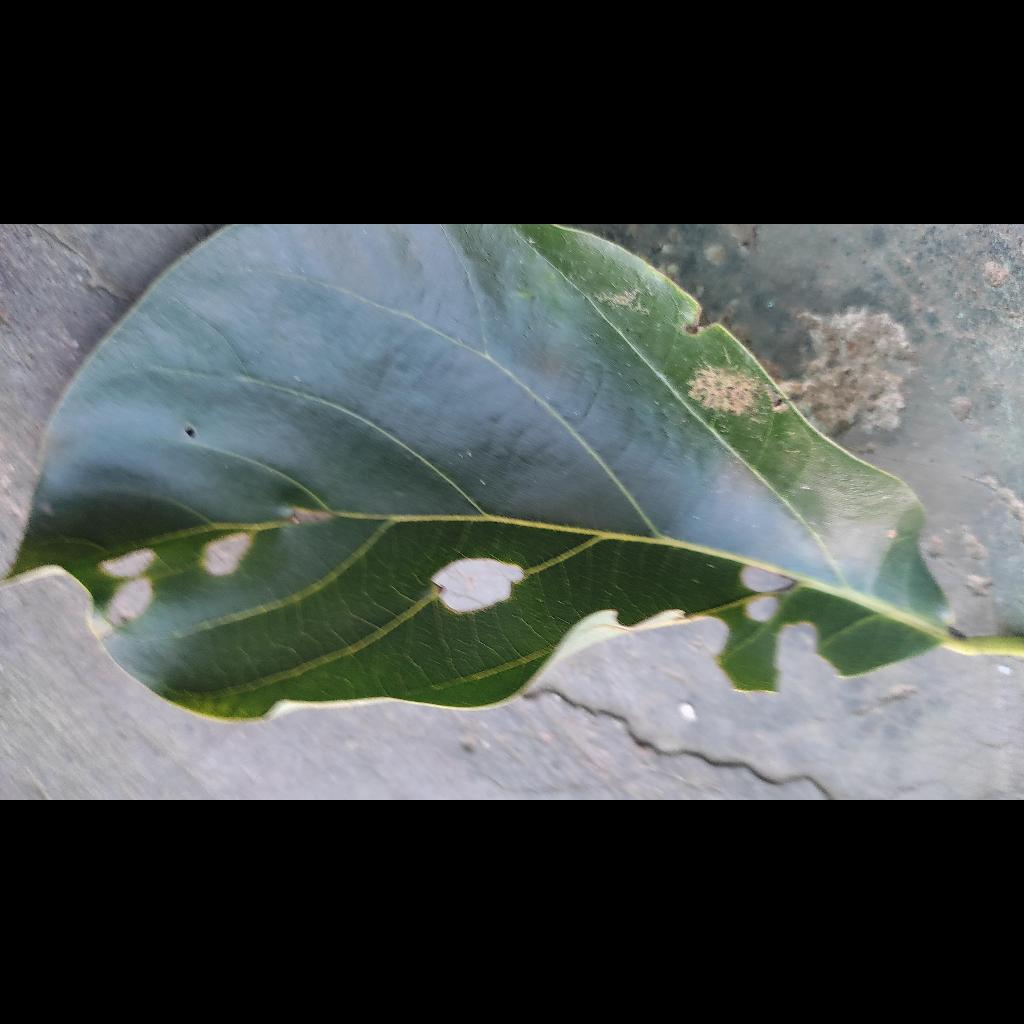Pest attack: (68, 529, 290, 641), (736, 550, 854, 702), (405, 525, 541, 625)
